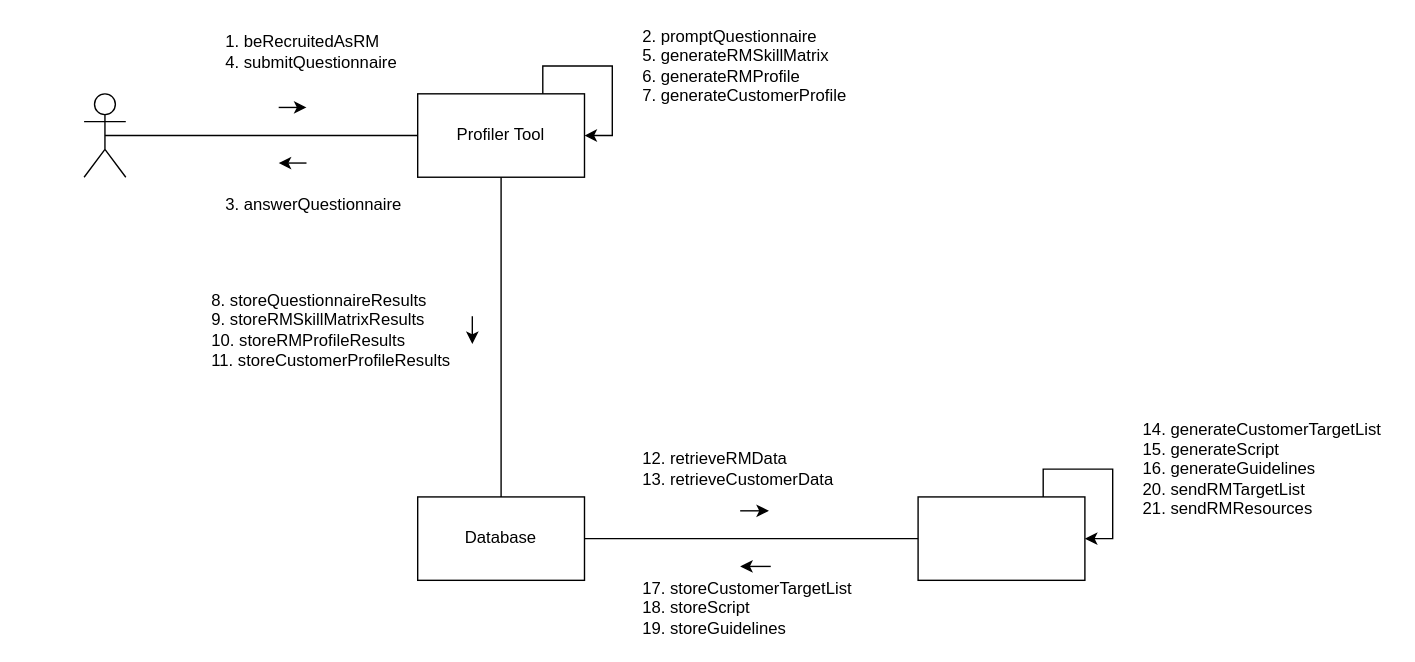
This 1415x662 diagram has some shape labels left out. The centre of each missing label's shape, as x and y in pixels:
CMC System: pixel 1001 538
Relationship Manager: pixel 104 134
